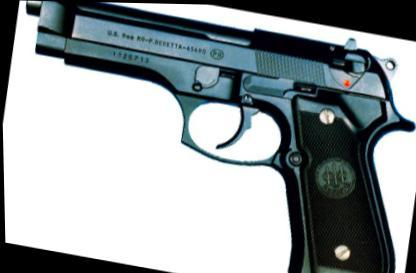pistol: (0, 0, 415, 271)
